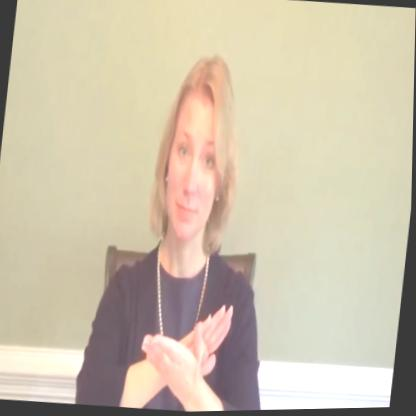NiceToMeetYou: (76, 38, 304, 415)
